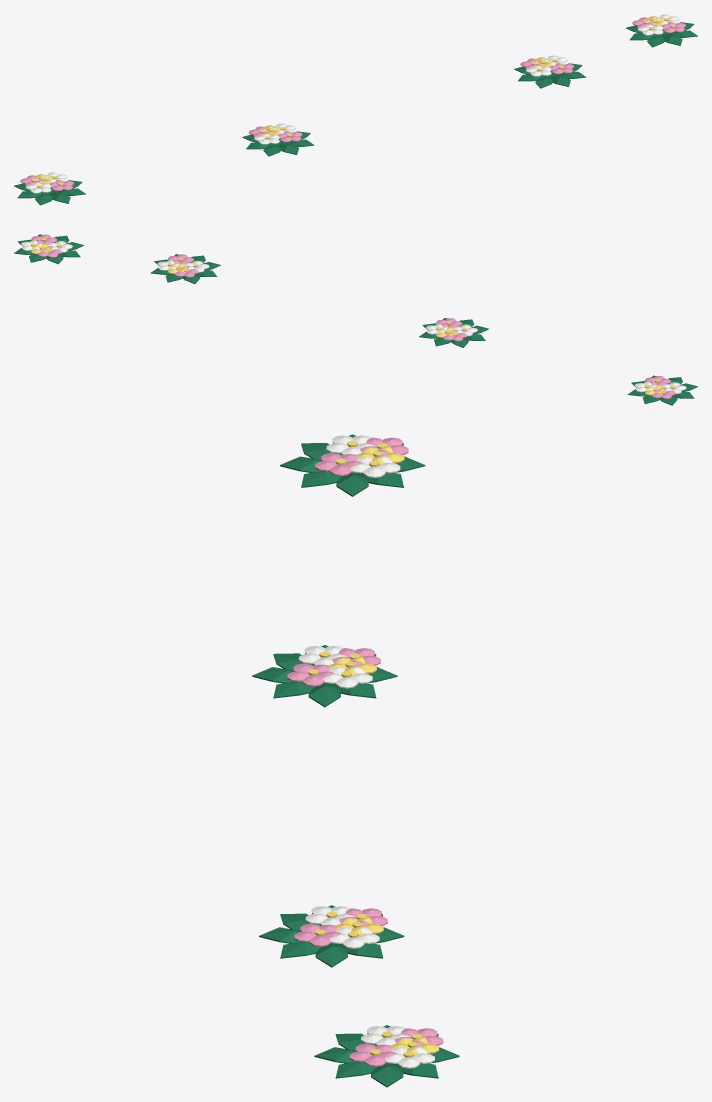
3 views of the same model, one above another, from view 1: azimuth 30°, elevation 25°; view 2: azimuth 150°, elevation 25°; view 3: azimuth 270°, elevation 25° (orthographic). The views are drawn at different scales.
Visible parts, largest first — view 1: 独立花簇.001; view 2: 独立花簇.001; view 3: 独立花簇.001.
Boxes of the visible parts, left/top/right/bottom form: 独立花簇.001: left=14, top=14, right=697, bottom=205; 独立花簇.001: left=14, top=234, right=697, bottom=405; 独立花簇.001: left=252, top=434, right=459, bottom=1087.
Bounding box in the file's own units: 2.23 × 0.0335 × 0.3.
